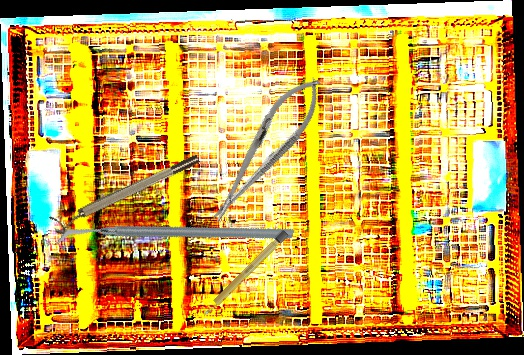Chopper: (54, 141, 296, 332)
Fixation Ring: (49, 151, 204, 237)
Needle Holder: (197, 66, 334, 233)
Scalpel Handle: (199, 228, 290, 319)
